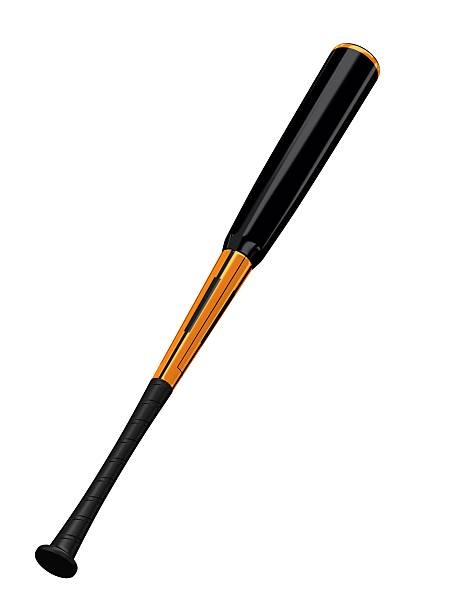bita: (42, 46, 375, 577)
